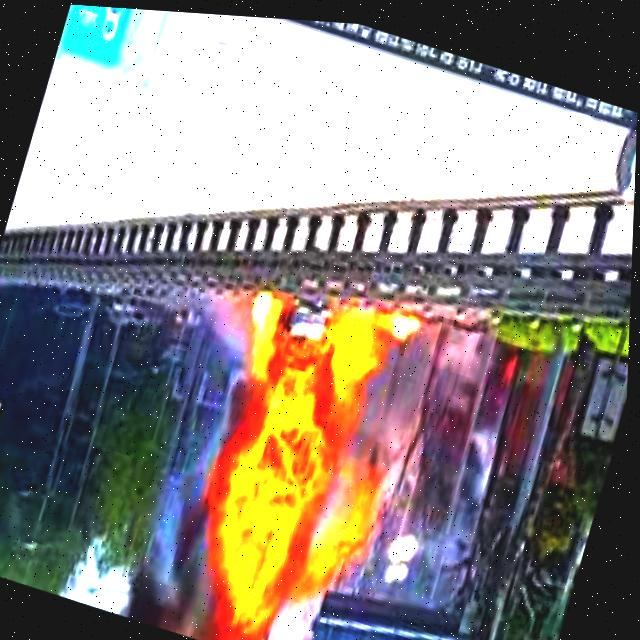Fire: (159, 262, 428, 640)
